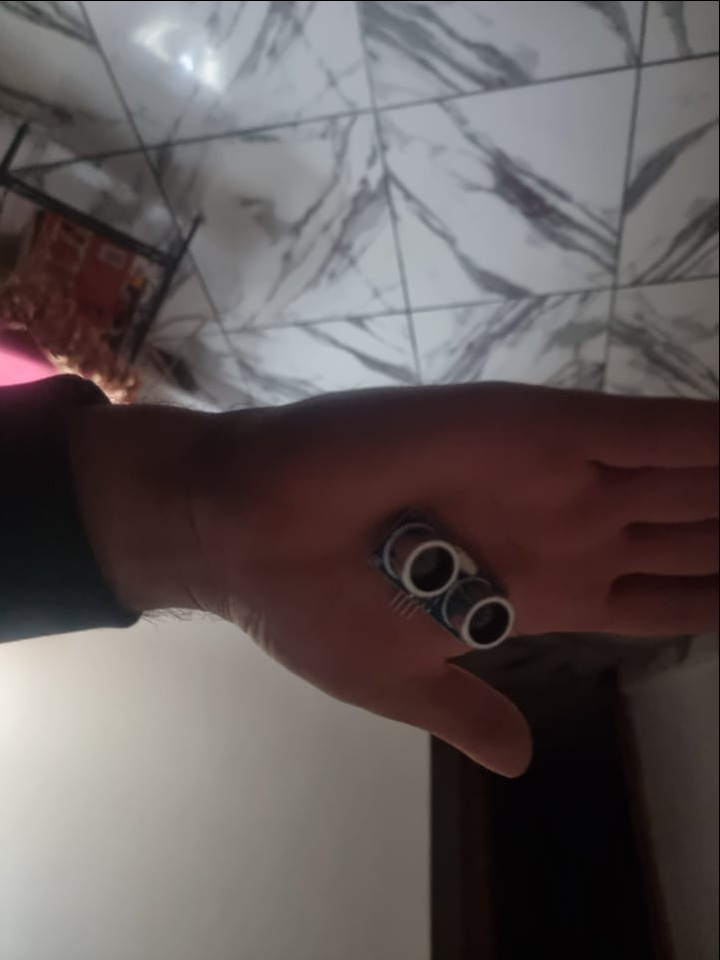SENSOR: (374, 508, 519, 650)
